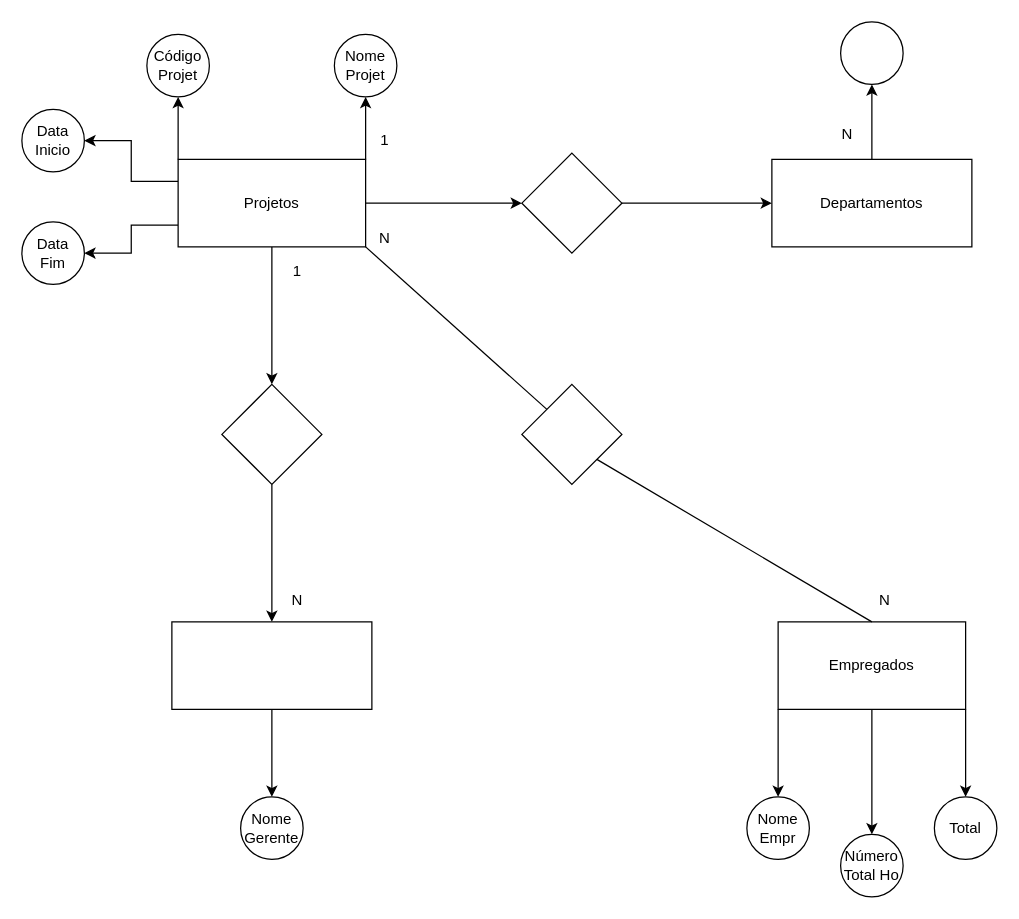
Image size: 1019x919. Some labels were removed from this diagram. Here are the shapes that lost their labels. From the top down, the centre of each, then its label:
point 871,52: Nome Departa
point 571,202: Associado
point 271,433: Auxiliado
point 571,433: Trabalhar
point 271,665: Gerentes
